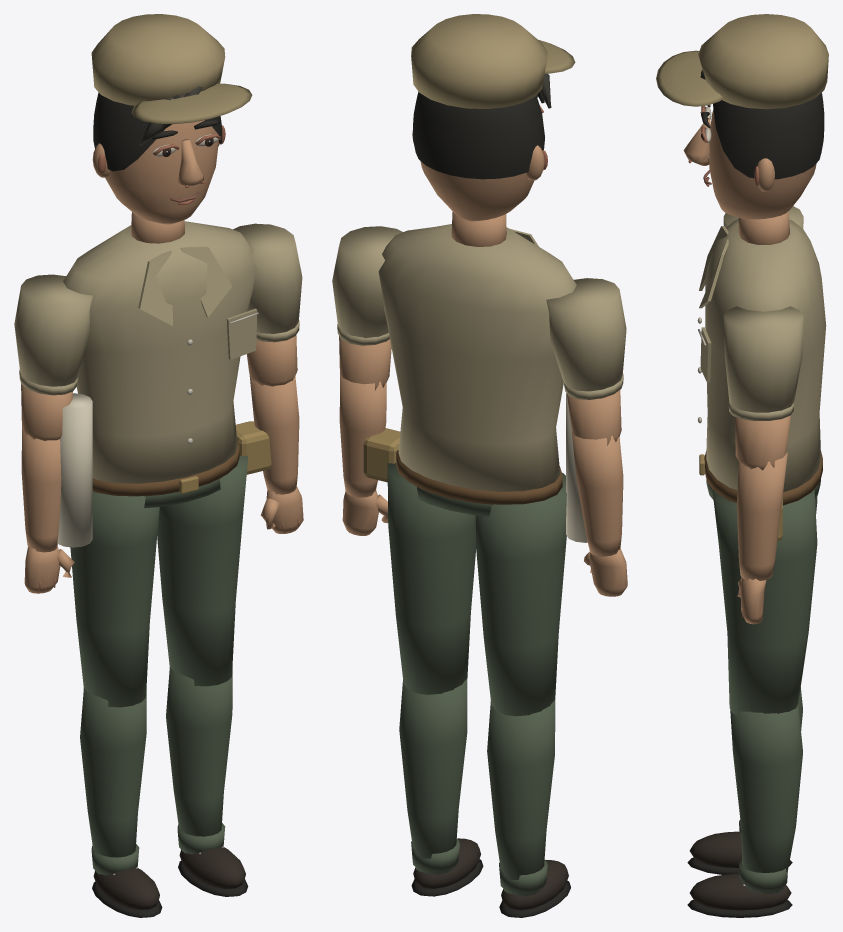
The model's file is engineer.glb.
The picture shows the model from 3 angles, left to right: view 1: azimuth 30°, elevation 25°; view 2: azimuth 150°, elevation 25°; view 3: azimuth 270°, elevation 25°; orthographic projection. The views are drawn at different scales.
Visible parts, largest first — view 1: body.008_mesh, head.008_mesh, legL.008_mesh, legR.008_mesh, shinR.008_mesh, shinL.008_mesh, armL.008_mesh, armR.008_mesh, forearmL.008_mesh, forearmR.008_mesh; view 2: body.008_mesh, head.008_mesh, legL.008_mesh, legR.008_mesh, shinR.008_mesh, shinL.008_mesh, armL.008_mesh, armR.008_mesh, forearmL.008_mesh, forearmR.008_mesh; view 3: head.008_mesh, body.008_mesh, legR.008_mesh, shinR.008_mesh, armR.008_mesh, forearmR.008_mesh, shinL.008_mesh.
Part boxes in pixels (x1,y1,x2,y2): body.008_mesh: (57,212,271,547); head.008_mesh: (91,14,252,224); legL.008_mesh: (70,491,159,707); legR.008_mesh: (157,455,247,686); shinR.008_mesh: (166,667,248,896); shinL.008_mesh: (80,688,162,917); armL.008_mesh: (14,274,92,440); armR.008_mesh: (233,223,302,386); forearmL.008_mesh: (21,425,74,593); forearmR.008_mesh: (249,372,303,533); body.008_mesh: (363,212,587,542); head.008_mesh: (411,14,575,221); legL.008_mesh: (475,472,566,716); legR.008_mesh: (387,463,476,694); shinR.008_mesh: (399,679,483,896); shinL.008_mesh: (487,700,570,917); armL.008_mesh: (546,278,626,445); armR.008_mesh: (332,226,402,390); forearmL.008_mesh: (572,432,627,596); forearmR.008_mesh: (339,373,387,535); head.008_mesh: (656,14,828,219); body.008_mesh: (697,211,826,541); legR.008_mesh: (712,490,817,716); shinR.008_mesh: (687,704,802,917); armR.008_mesh: (723,306,803,470); forearmR.008_mesh: (736,452,787,624); shinL.008_mesh: (687,687,802,874).
Size of the model in its own units: 0.5784 by 1.7 by 0.3096.
